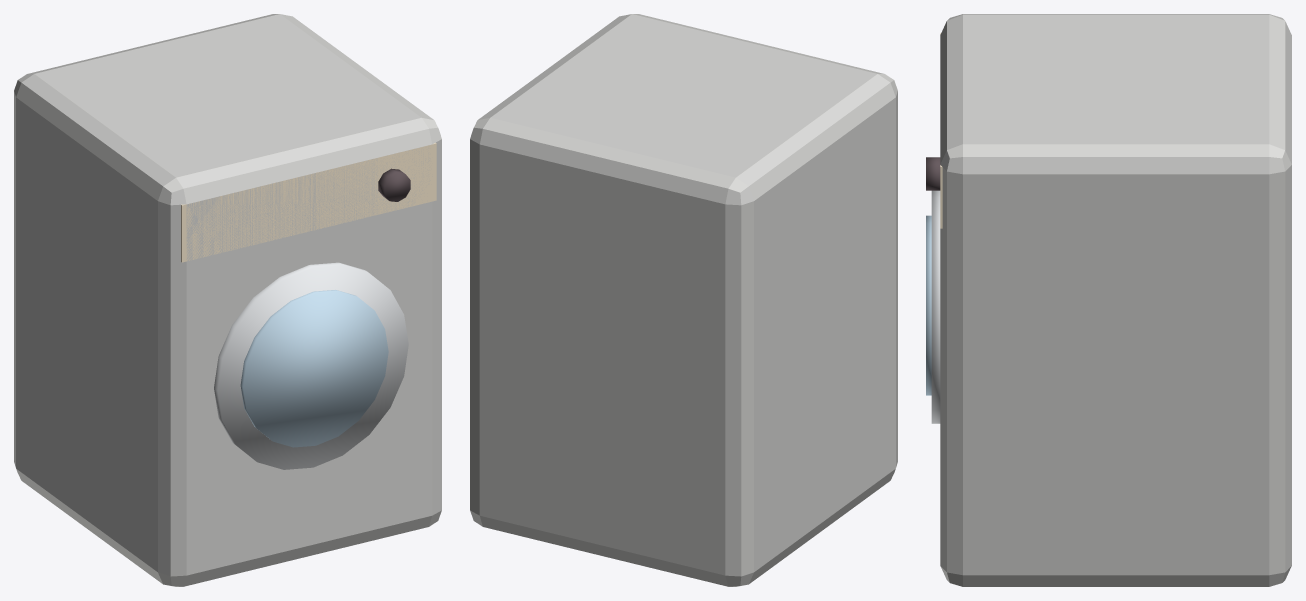
File: maquina_lavar.glb
3 renders of one model, left to right at view 1: azimuth 30°, elevation 25°; view 2: azimuth 150°, elevation 25°; view 3: azimuth 270°, elevation 25°, orthographic. The views are drawn at different scales.
Visible parts, largest first — view 1: maquina_lavar; view 2: maquina_lavar; view 3: maquina_lavar.
Part boxes in pixels (box(x1,y1,x2,y2)): maquina_lavar: box(14, 14, 441, 586); maquina_lavar: box(470, 14, 897, 586); maquina_lavar: box(926, 14, 1291, 586).
Bounding box in the file's own units: 0.62 × 0.86 × 0.645.
